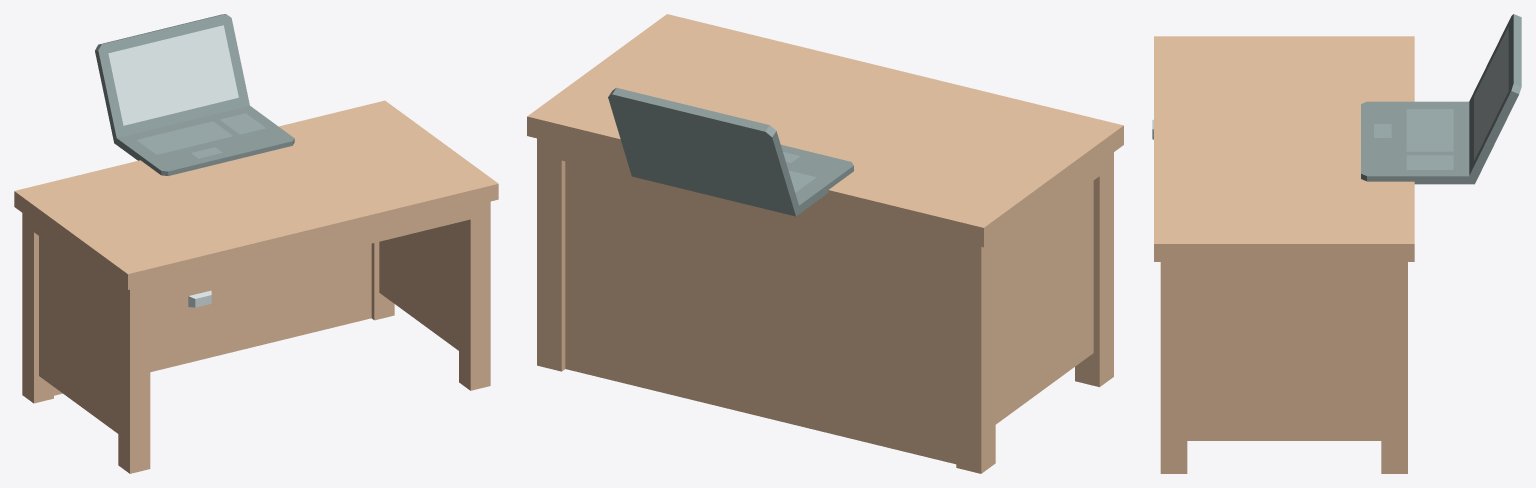
File: computer_laptop.glb
The picture shows the model from 3 angles, left to right: view 1: azimuth 30°, elevation 25°; view 2: azimuth 150°, elevation 25°; view 3: azimuth 270°, elevation 25°; orthographic projection. The views are drawn at different scales.
Parts seen in each view (by area): view 1: desk(Clone), laptop(Clone), drawer; view 2: desk(Clone), laptop(Clone); view 3: desk(Clone), laptop(Clone).
Boxes of the visible parts, x1,y1,x2,y2 form: desk(Clone): [14, 100, 498, 473]; laptop(Clone): [95, 14, 294, 175]; drawer: [150, 273, 249, 323]; desk(Clone): [527, 14, 1123, 473]; laptop(Clone): [608, 87, 853, 216]; desk(Clone): [1154, 36, 1414, 473]; laptop(Clone): [1361, 14, 1521, 184].
Size of the model in its own units: 1.51 by 1.11 by 1.13.
